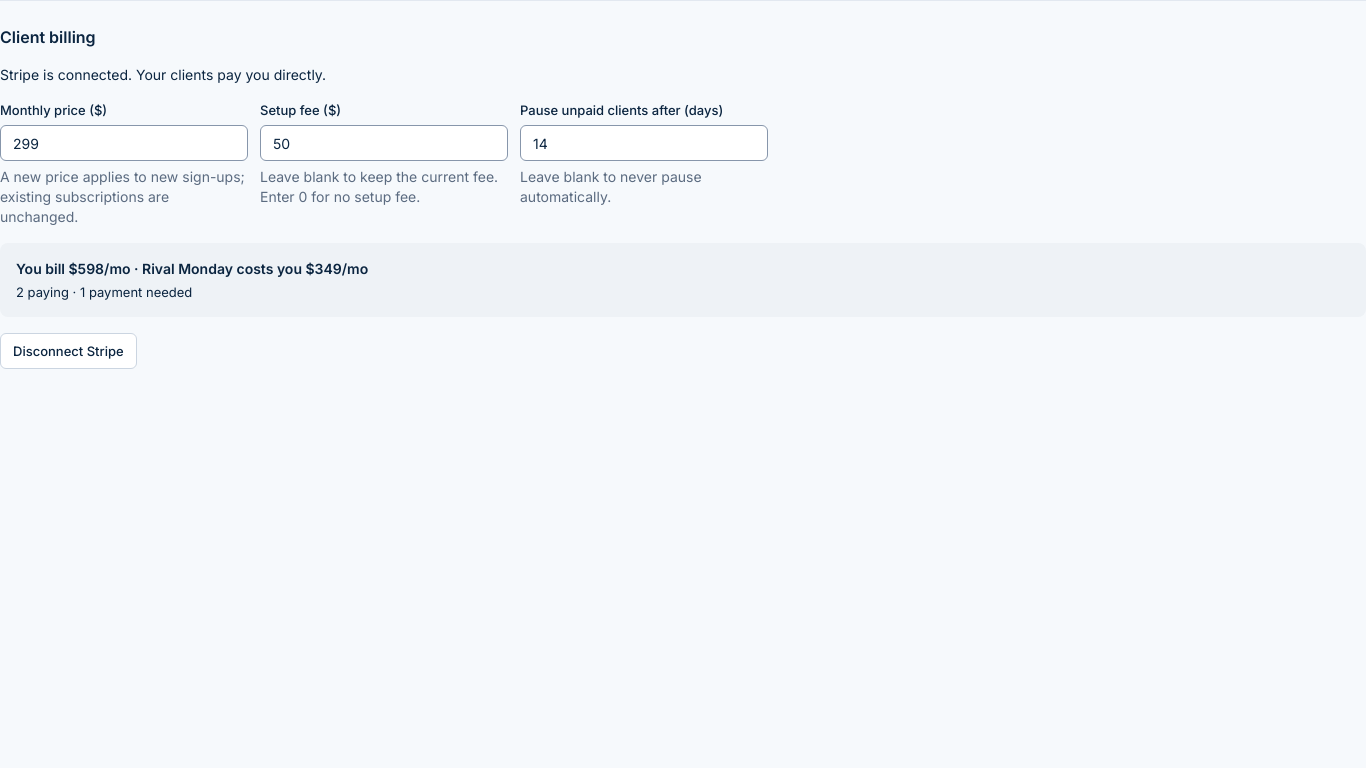
Test case: client billing section › the disconnect dialog shows the binding copy and only the confirm button disconnects
The image size is (1366, 768).
Click the button "Disconnect Stripe": (68, 351) [0, 333, 137, 369]
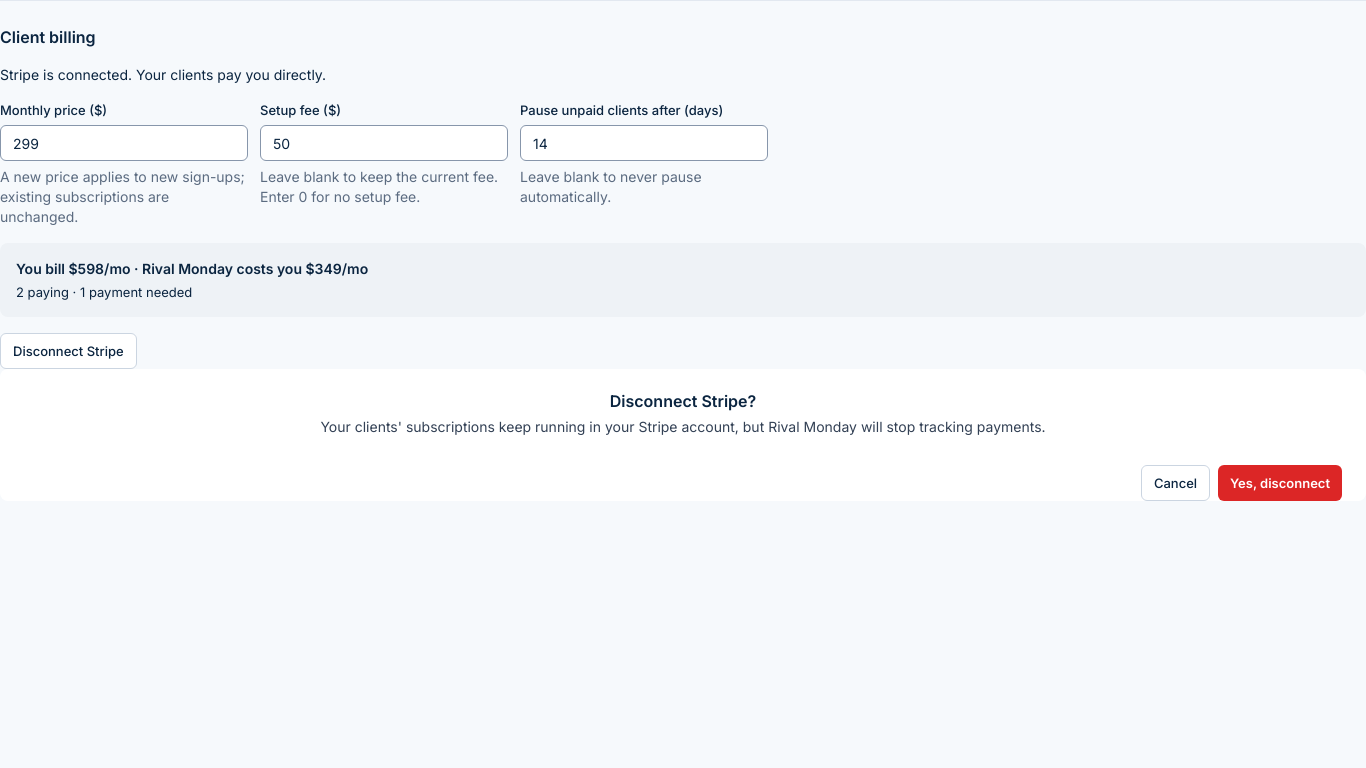
Now the heading "Disconnect Stripe?" is shown, box [610, 391, 756, 411]
Now the text "Your clients' subscriptions keep running in your Stripe account, but Rival Monday will stop tracking payments." is shown, box [320, 418, 1046, 435]
Now the button "Yes, disconnect" is shown, box [1218, 465, 1342, 501]
